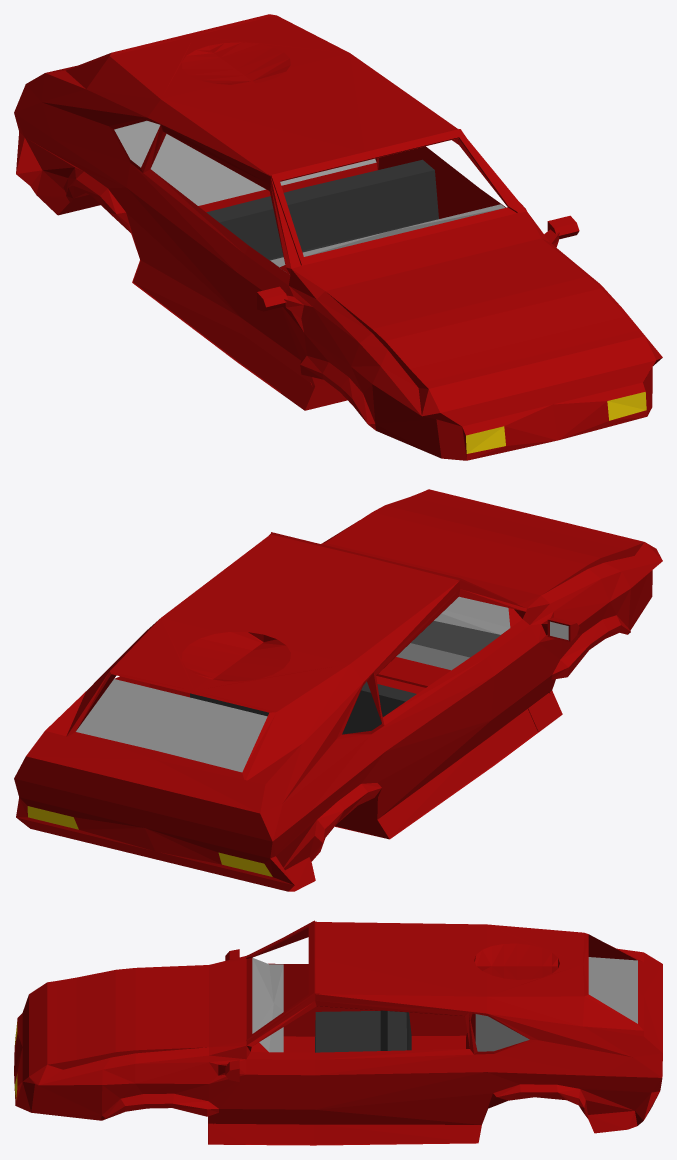
Rendered from InterceptorBody.fbx.
The picture shows the model from 3 angles, top to bottom: view 1: azimuth 30°, elevation 25°; view 2: azimuth 150°, elevation 25°; view 3: azimuth 270°, elevation 25°; orthographic projection. The views are drawn at different scales.
Visible parts, largest first — view 1: InterceptorBody; view 2: InterceptorBody; view 3: InterceptorBody.
Boxes of the visible parts, bbox=[...] form: InterceptorBody: bbox=[14, 14, 662, 460]; InterceptorBody: bbox=[14, 489, 662, 891]; InterceptorBody: bbox=[14, 920, 662, 1145].
Bounding box in the file's own units: 19.77 × 10.77 × 45.33.
